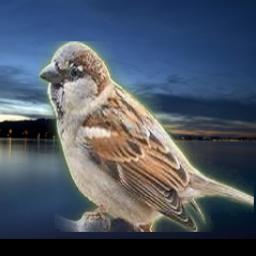Sparrow: (40, 41, 255, 232)
